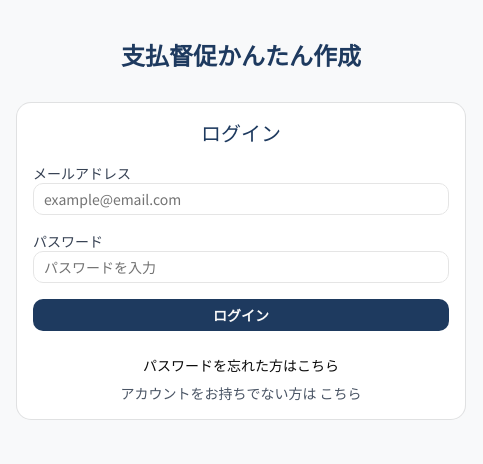
Test: LoginPage › パスワードが空の場合エラーメッセージが表示される
Type "test@example.com" into the field labelled "メールアドレス" at [241, 199], box [33,183,449,215]
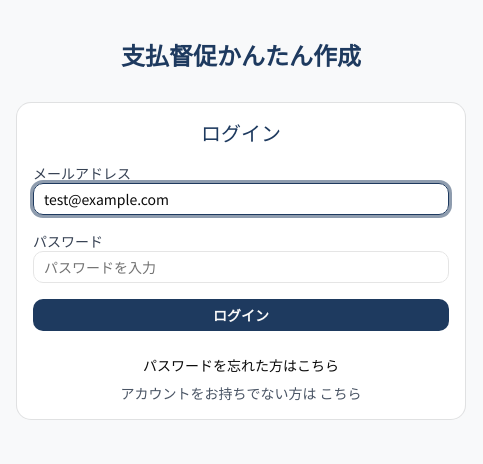
Submit the form "ログイン", box [33,163,449,331]
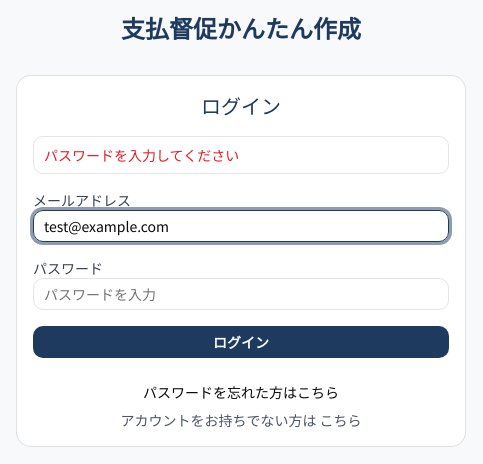
Expected: the message "パスワードを入力してください" is shown, [33,136,449,174]
